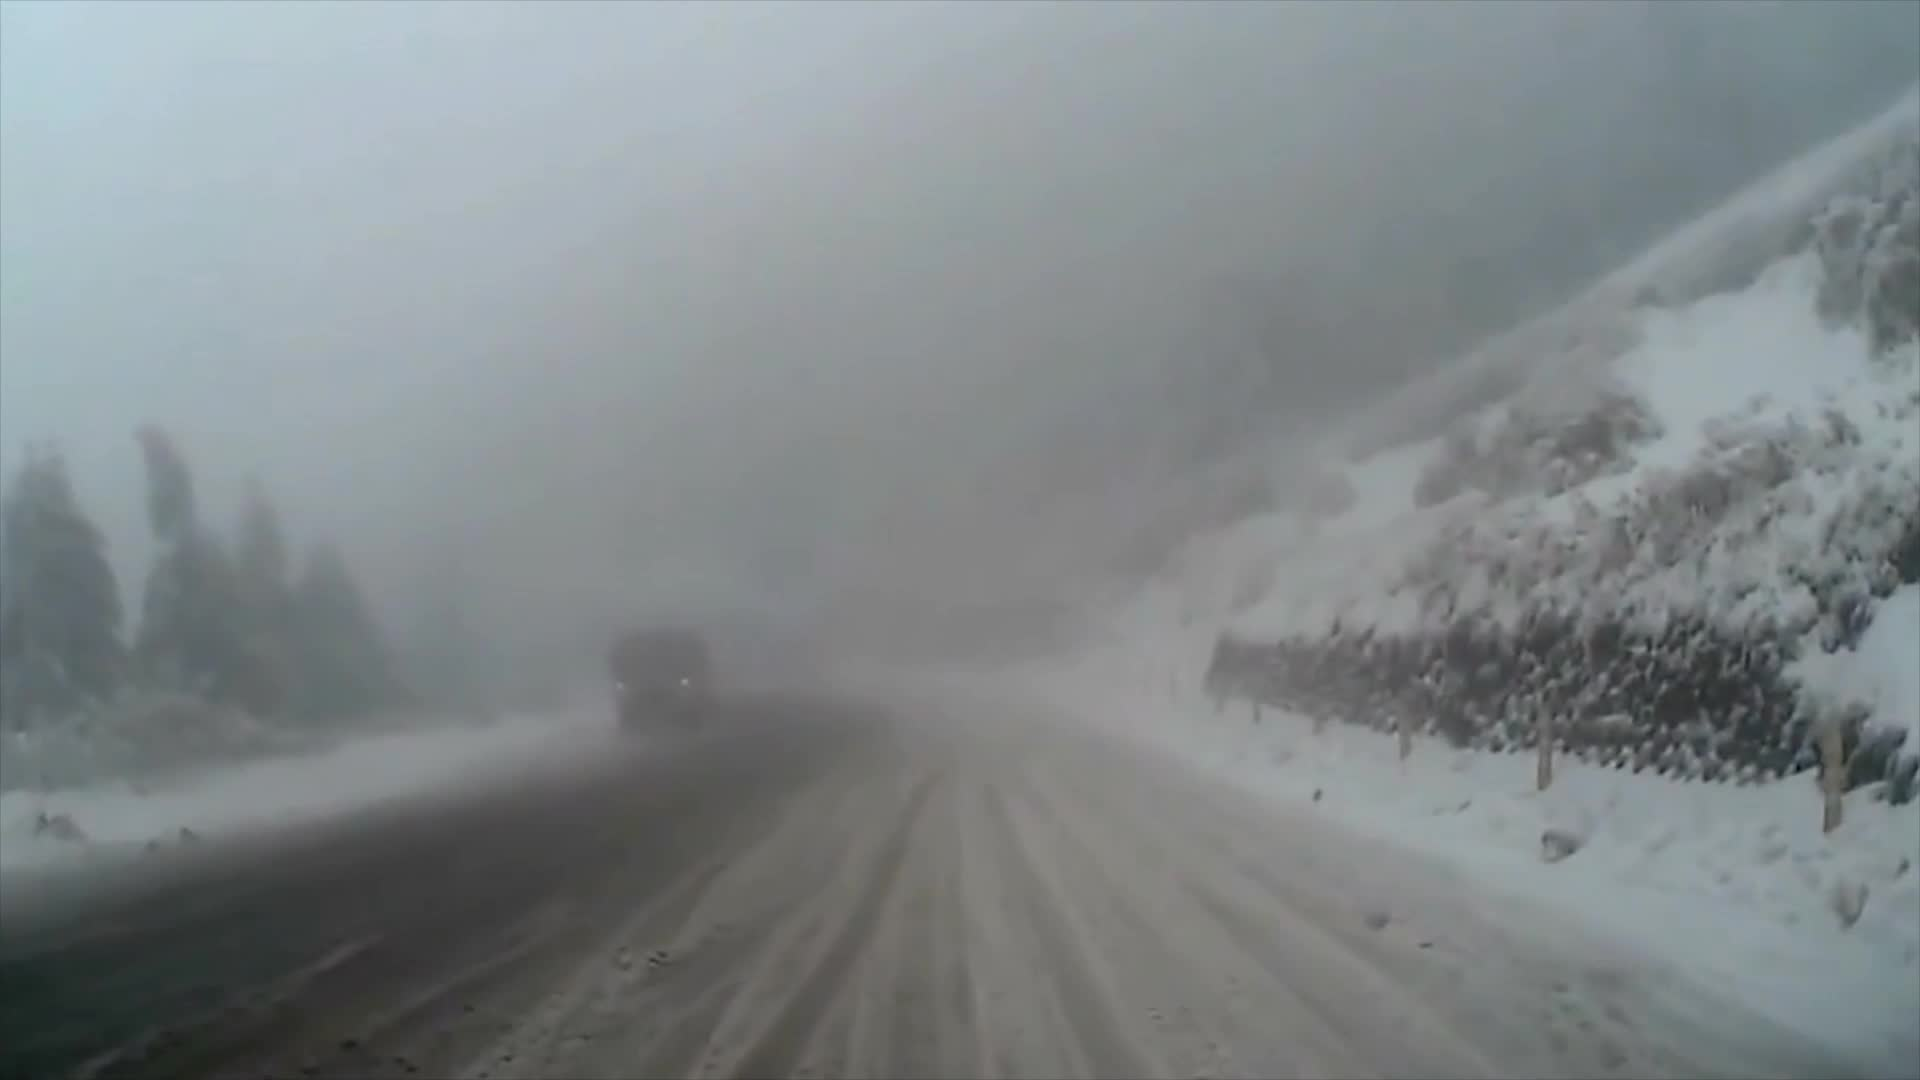vehicle: (604, 626, 713, 721)
